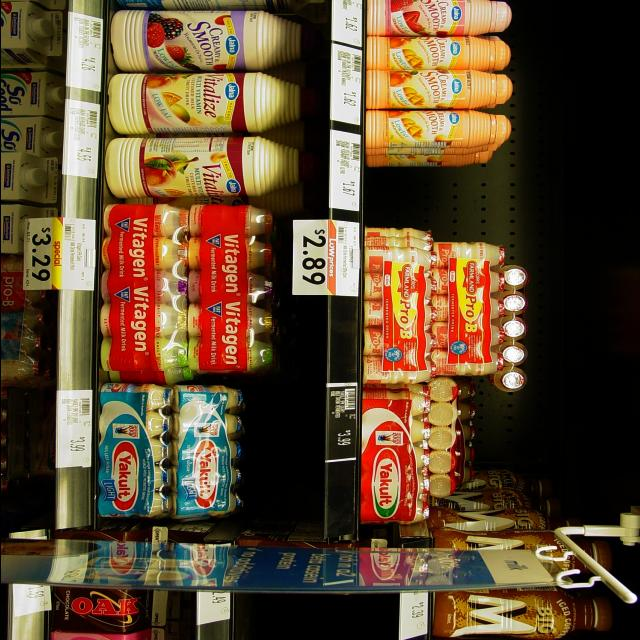empty_space: (241, 390, 321, 521), (237, 591, 383, 640), (371, 167, 484, 226)
